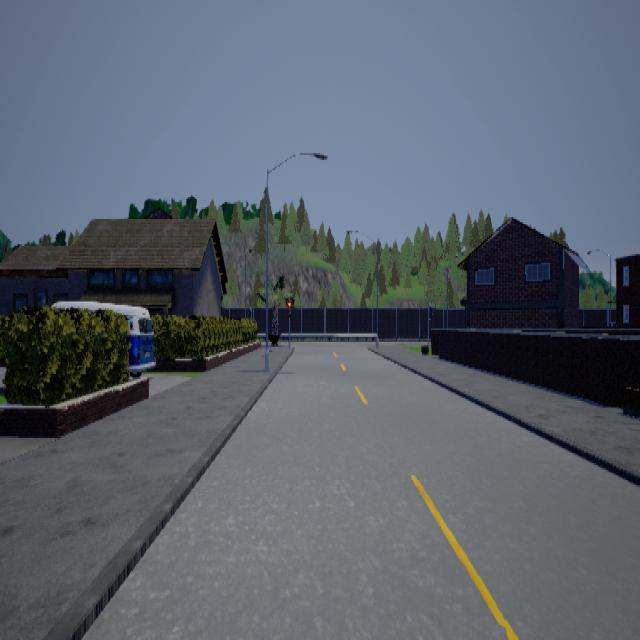vehicle: (52, 300, 157, 376)
